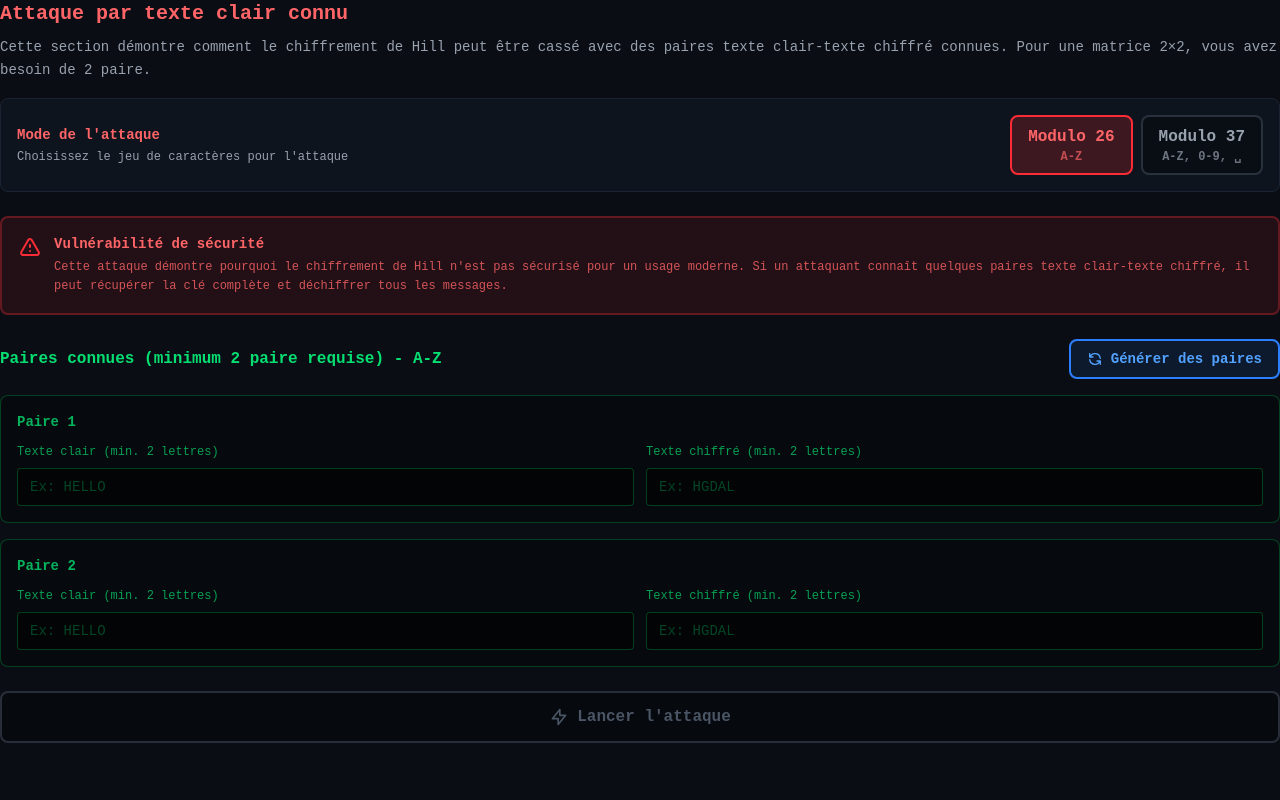
Test: AttackSection › displays error message when attack fails
In the 1st field with placeholder "Ex: HELLO": point(326, 486) [17,468,634,506], type "HE"
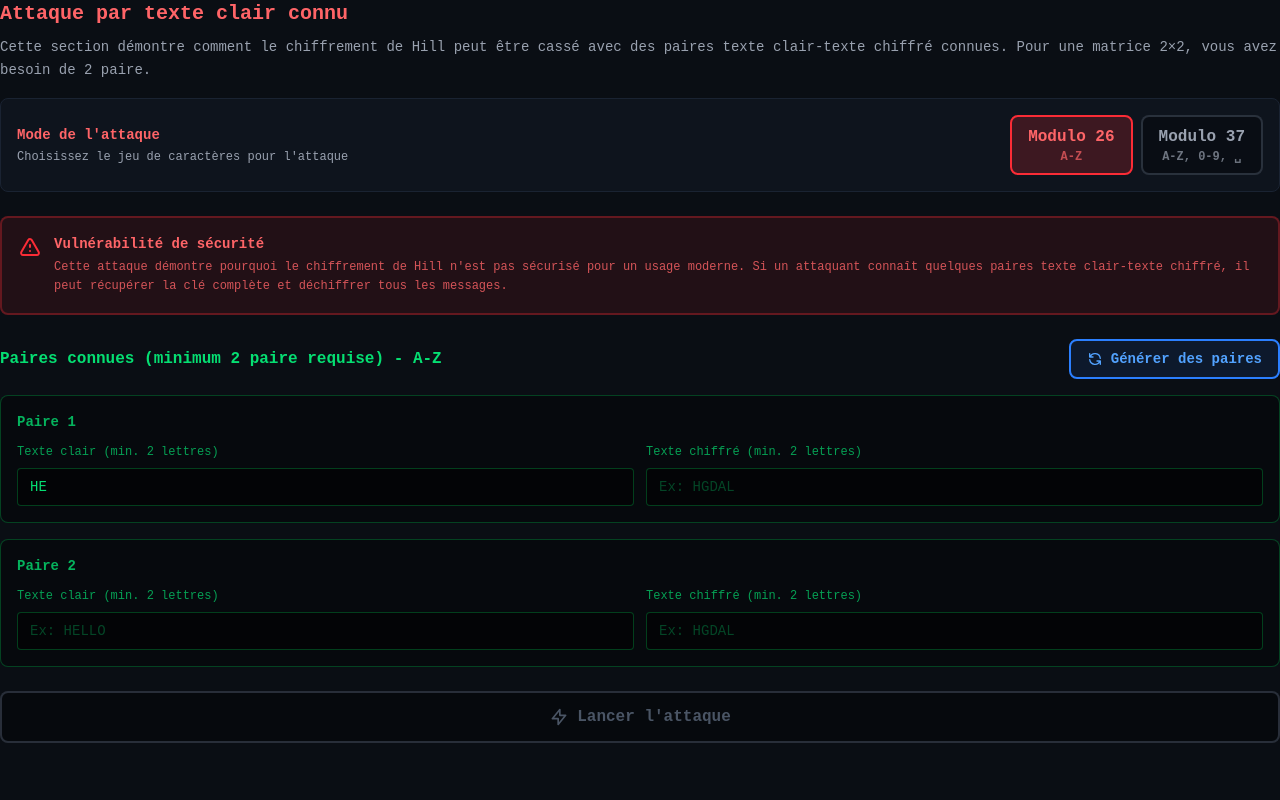
In the 1st field with placeholder "Ex: HGDAL": point(954, 486) [646,468,1263,506], type "AB"
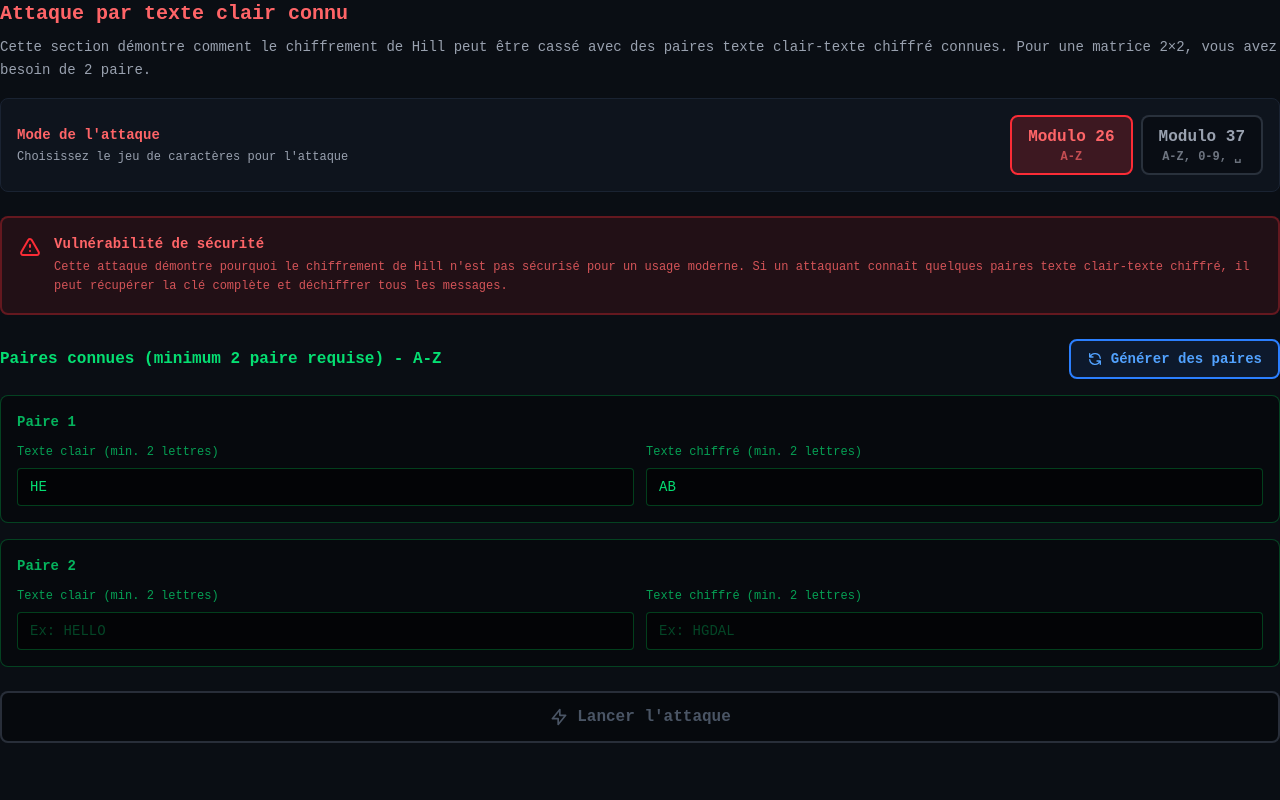
In the 2nd field with placeholder "Ex: HELLO": point(326, 630) [17,612,634,650], type "LO"
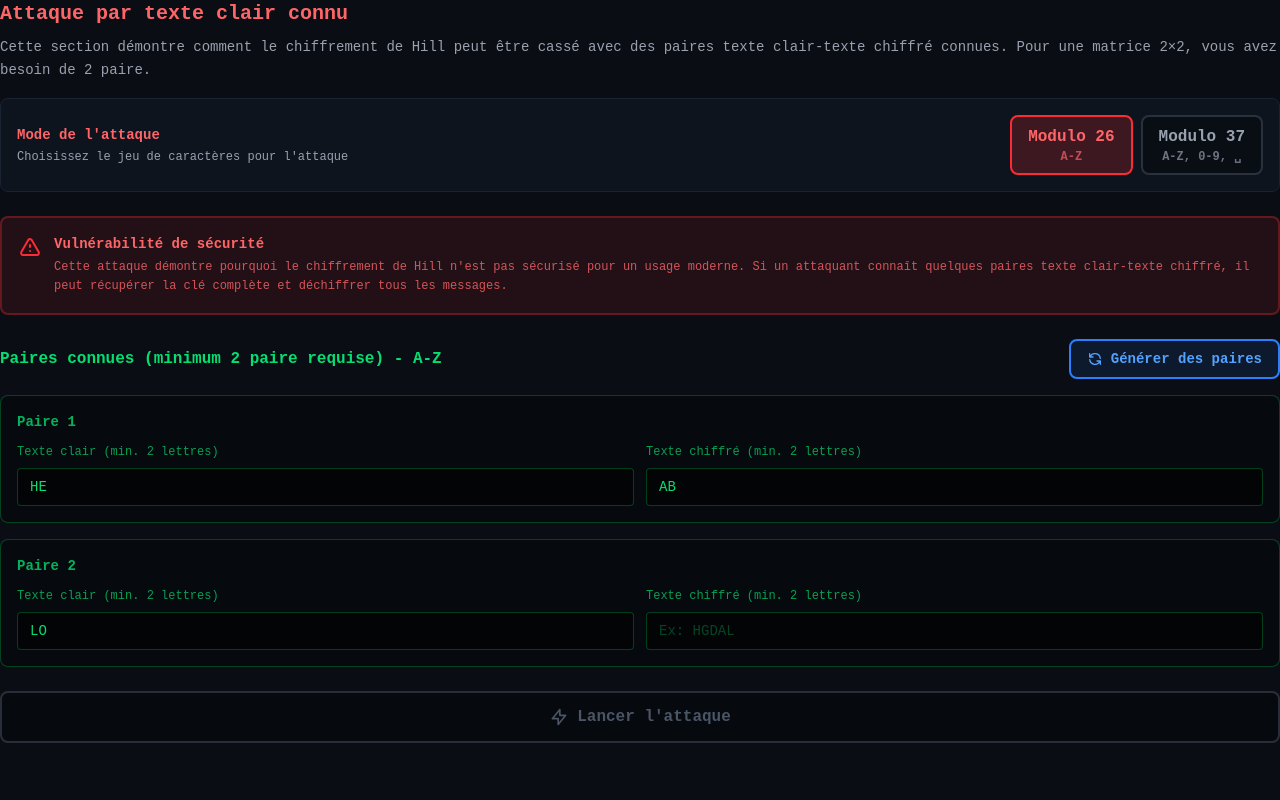
In the 2nd field with placeholder "Ex: HGDAL": point(954, 630) [646,612,1263,650], type "CD"
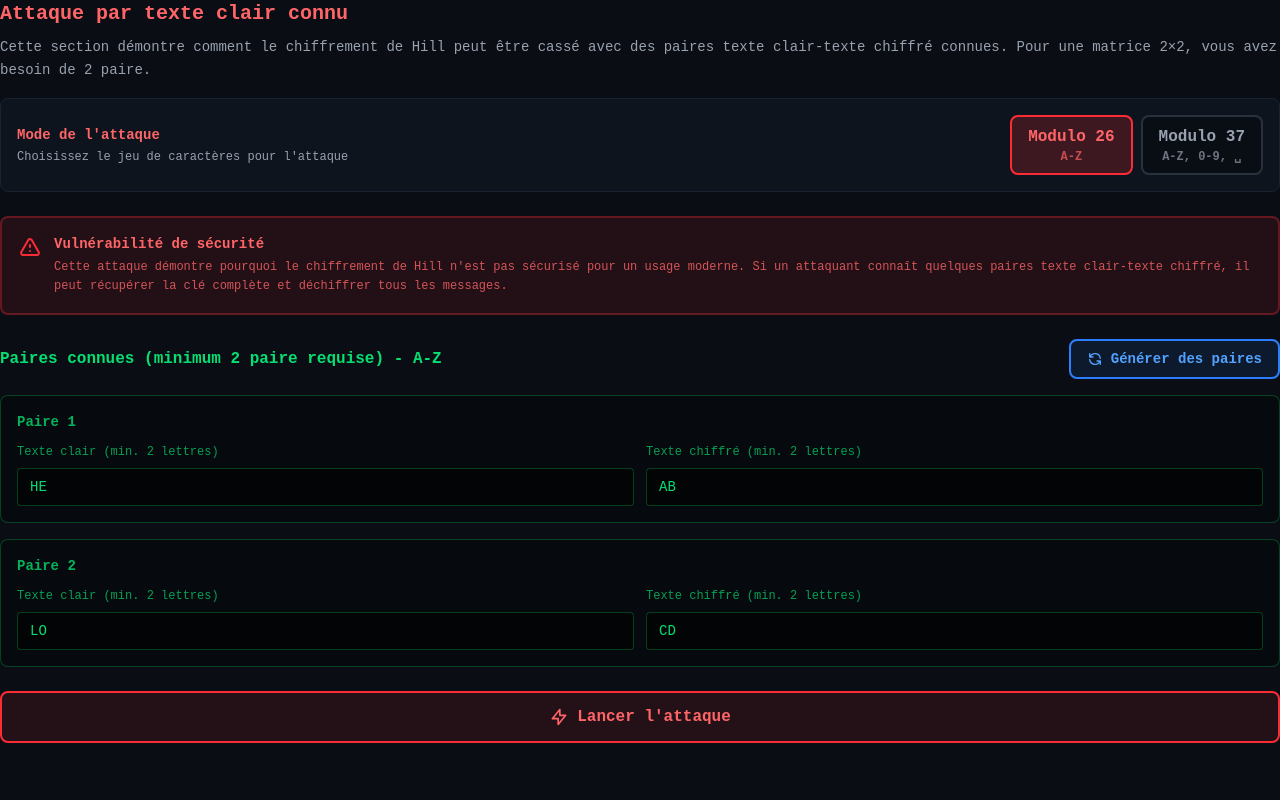
// Click attack button
Click the button "Lancer l'attaque": point(640, 716) [0,690,1279,742]
(page scrolled)
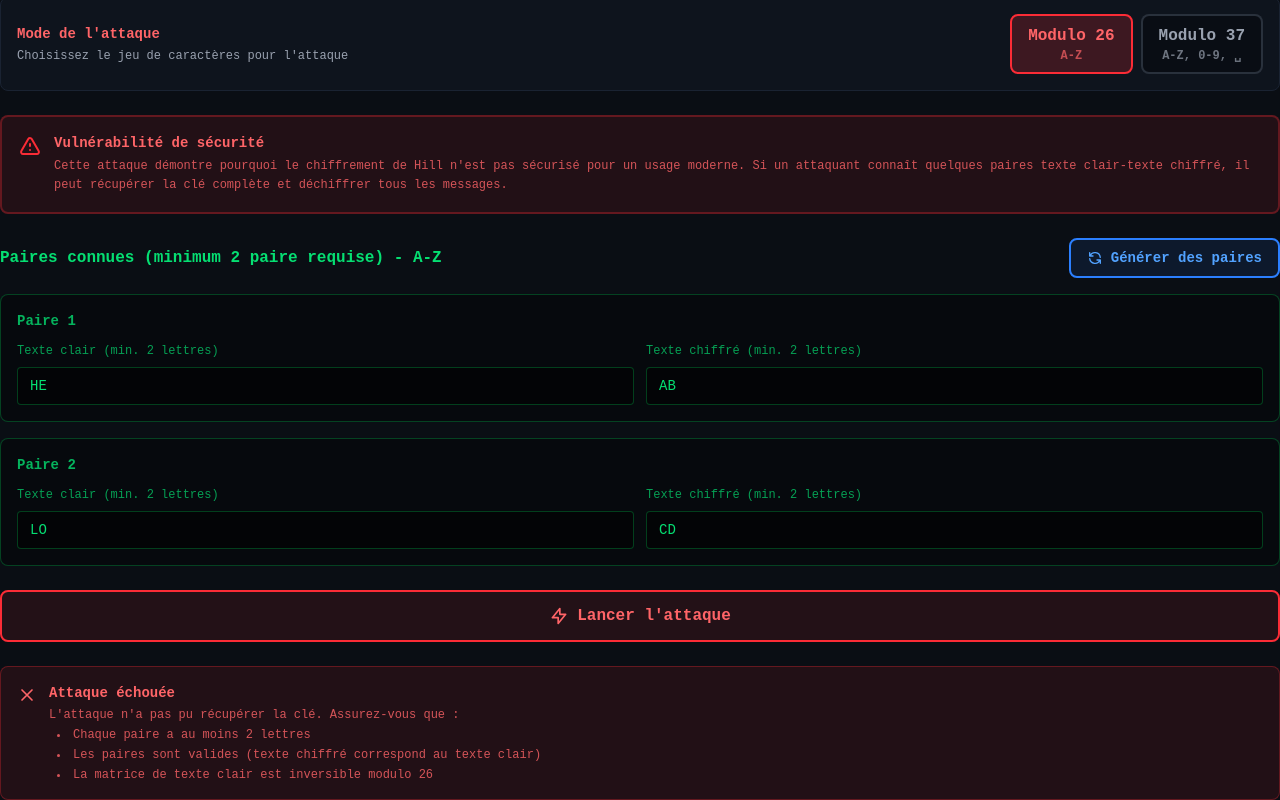
Expected: the text "Attaque échouée" is shown, [49,684,175,700]
Expected: the text "L'attaque n'a pas pu récupérer la clé. Assurez-vous que :" is shown, [49,708,460,722]
